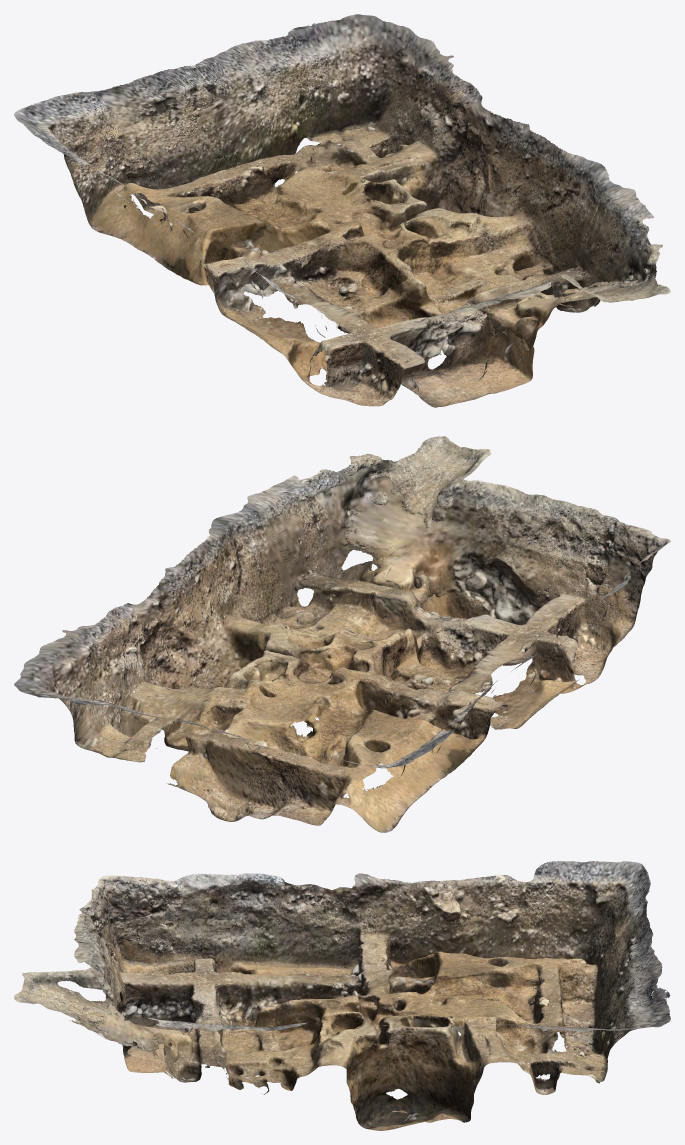
The model's file is 00101_kokufuhakkutsu3_small.glb.
The picture shows the model from 3 angles, top to bottom: view 1: azimuth 30°, elevation 25°; view 2: azimuth 150°, elevation 25°; view 3: azimuth 270°, elevation 25°; orthographic projection. The views are drawn at different scales.
Visible parts, largest first — view 1: mesh; view 2: mesh; view 3: mesh.
Part boxes in pixels (x1,y1,x2,y2): mesh: [14, 14, 670, 407]; mesh: [14, 436, 670, 832]; mesh: [14, 861, 670, 1130].
Bounding box in the file's own units: 6.59 × 2.5 × 10.58.
1 material, 1 textured.
